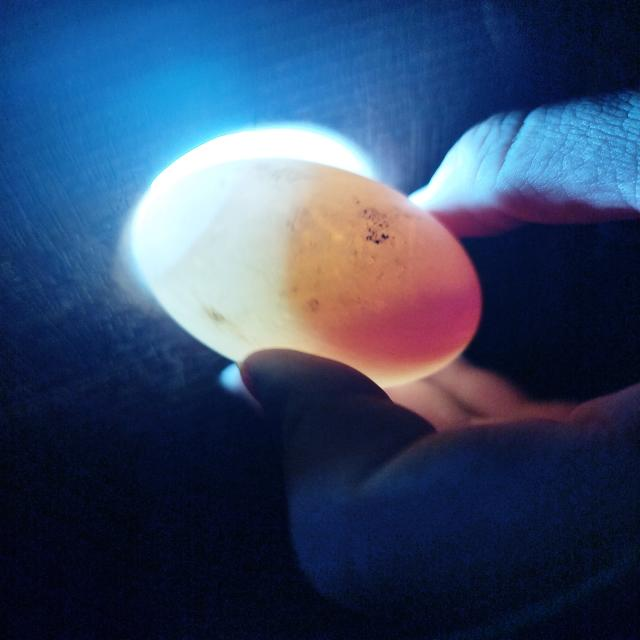Camara de Ar: (137, 161, 237, 277)
Gema Quebrada: (323, 282, 482, 362)
